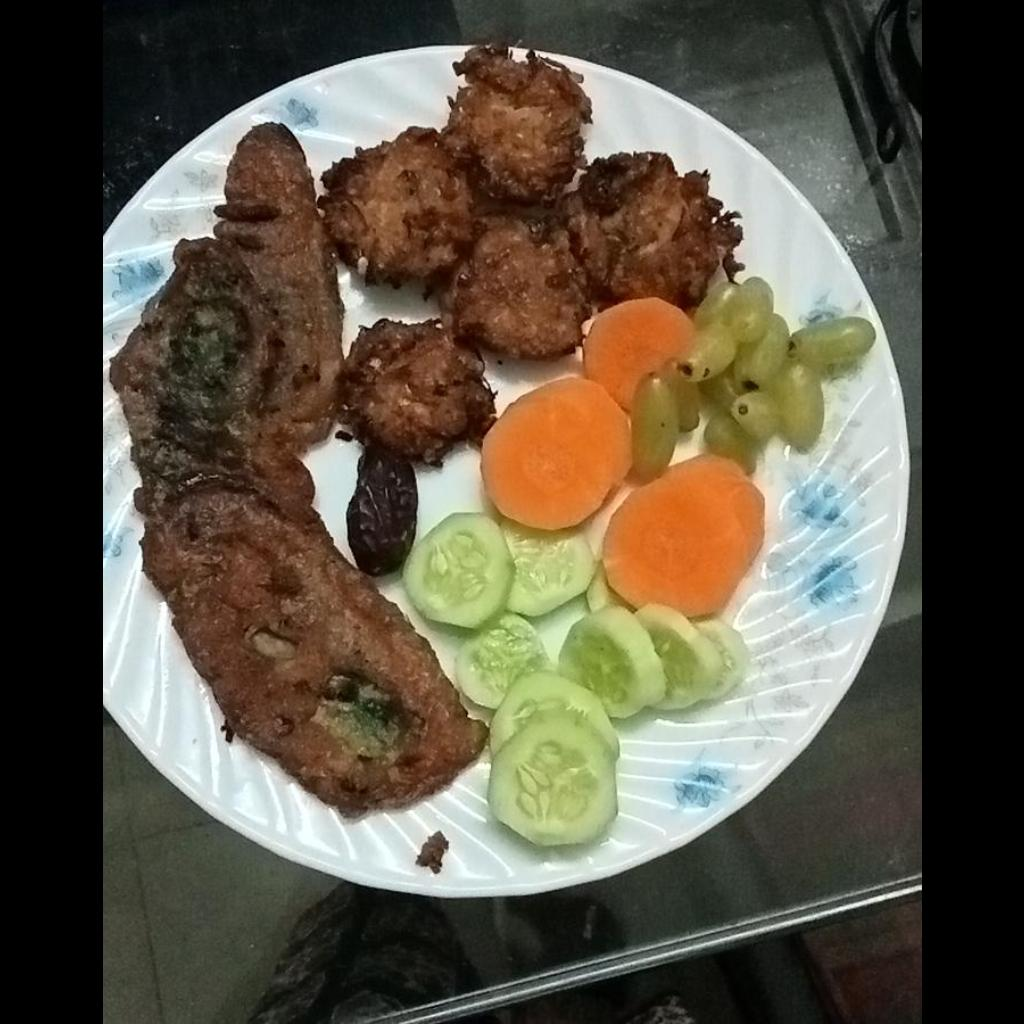beguni: (110, 119, 478, 824)
carrot: (481, 300, 766, 616)
cucumber: (403, 512, 751, 847)
dates: (346, 449, 419, 575)
grapes: (633, 277, 881, 474)
piyaju: (316, 48, 744, 465)
